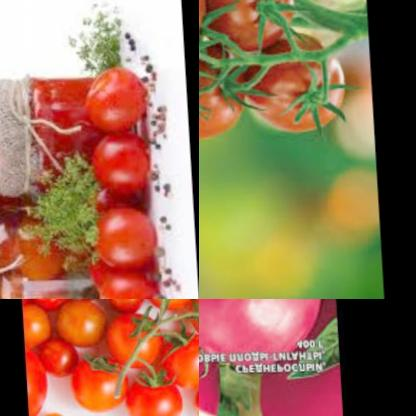tomato: (243, 32, 354, 143), (199, 299, 317, 378), (199, 46, 271, 135), (81, 201, 158, 270), (199, 0, 297, 53), (78, 62, 146, 138), (83, 131, 154, 202), (262, 363, 341, 416), (66, 354, 129, 416), (116, 363, 181, 416), (106, 310, 161, 369), (50, 299, 111, 351), (158, 330, 199, 391), (22, 342, 54, 416), (86, 265, 153, 299), (199, 345, 229, 416), (35, 336, 79, 379), (21, 304, 54, 343), (181, 299, 199, 341), (99, 299, 141, 315), (185, 384, 199, 416), (26, 299, 72, 306)
